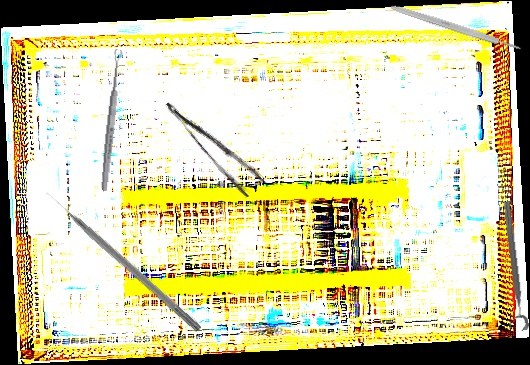Dressing Forceps: (163, 87, 267, 200)
Fixation Ring: (492, 200, 530, 333)
Pusher: (43, 187, 205, 334)
Scalpel Handle: (390, 3, 522, 53)
Surgical Spoon: (99, 48, 124, 192)
